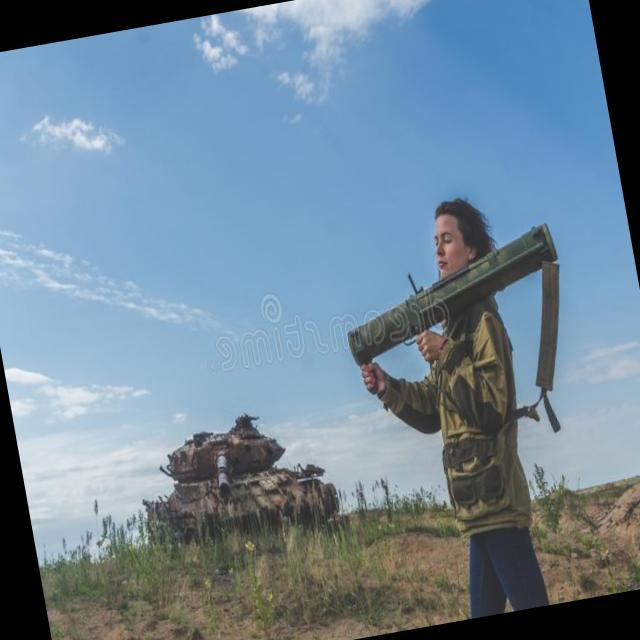rocket: (332, 214, 572, 366)
